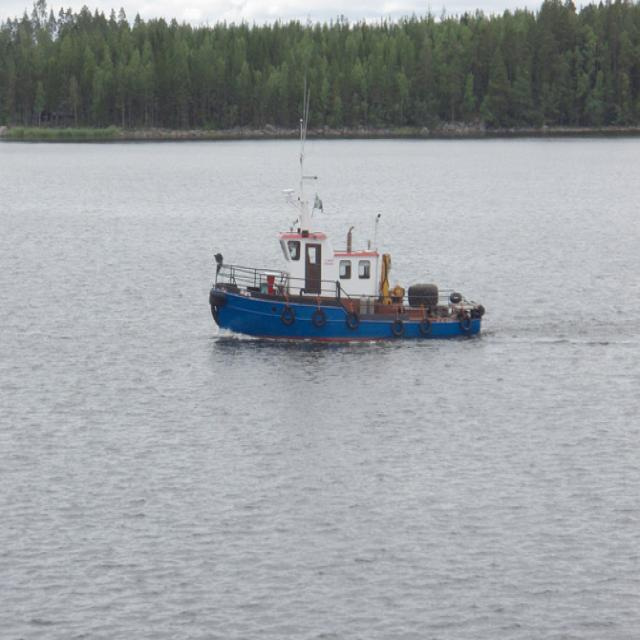fishing boat: (210, 193, 487, 342)
